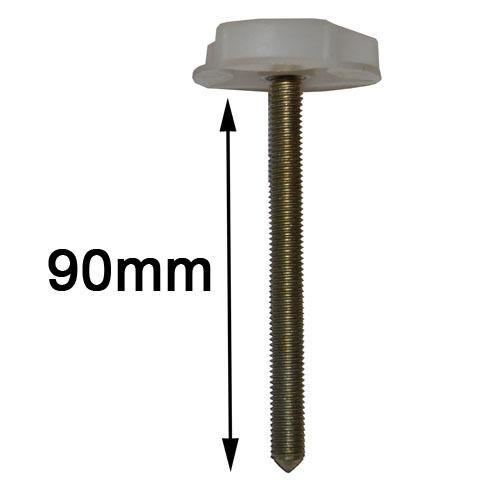Tornillo: (191, 16, 384, 474)
